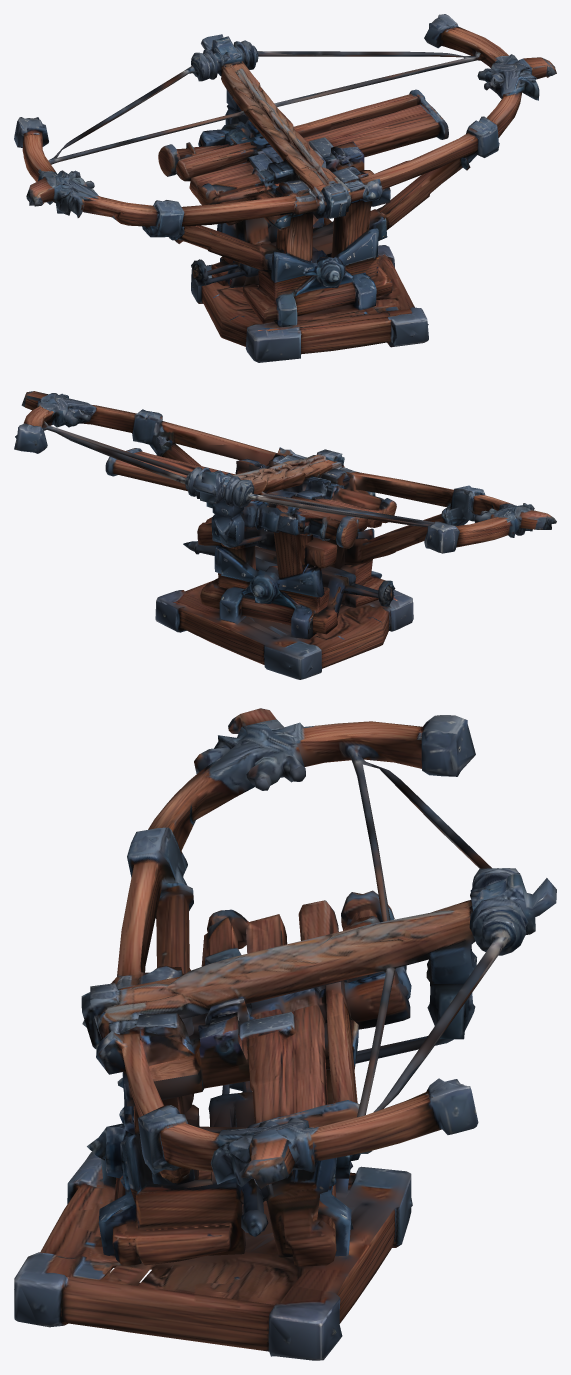
File: weapon_ballista.glb
3 views of the same model, one above another, from view 1: azimuth 30°, elevation 25°; view 2: azimuth 150°, elevation 25°; view 3: azimuth 270°, elevation 25° (orthographic). The views are drawn at different scales.
Visible parts, largest first — view 1: node_0; view 2: node_0; view 3: node_0.
Boxes of the visible parts, box(x1,y1,x2,y2) form: node_0: box(14, 14, 556, 362); node_0: box(14, 391, 556, 679); node_0: box(14, 708, 556, 1360).
Size of the model in its own units: 1.16 by 0.4634 by 0.5785.
1 material, 1 textured.
